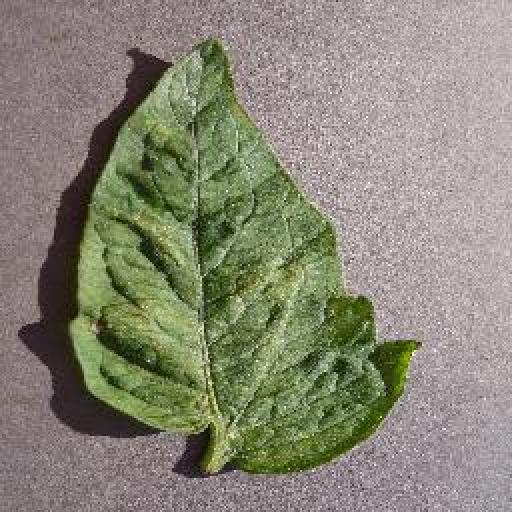disease_tomato: (67, 34, 424, 472)
